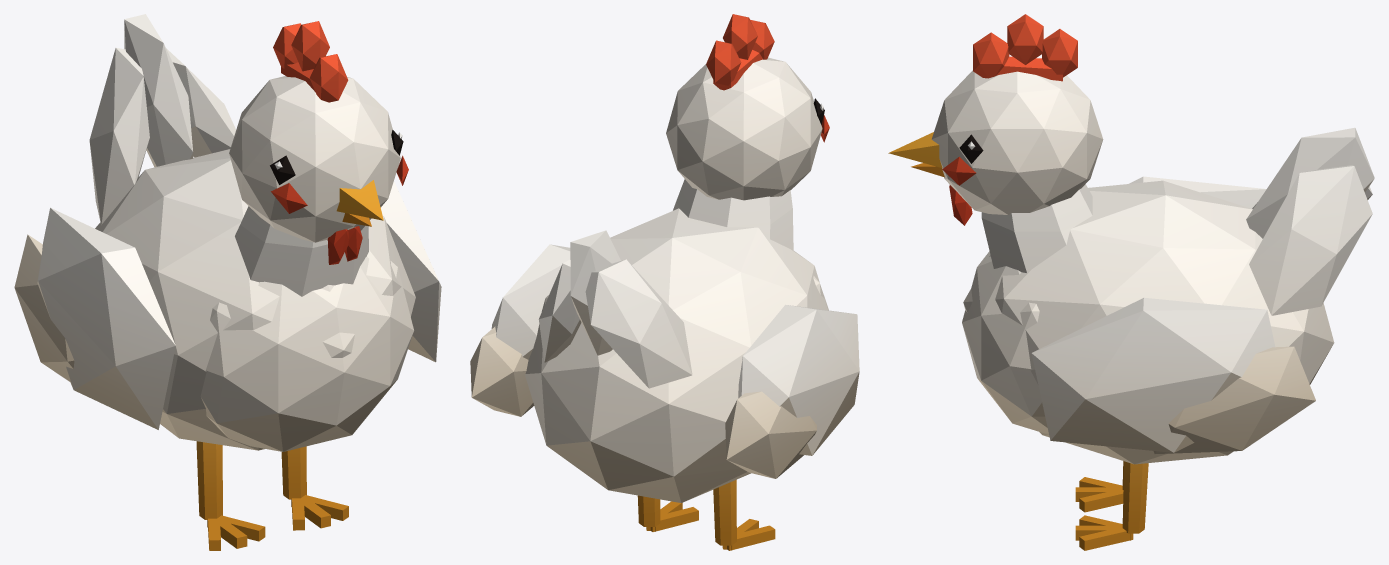
File: poule.glb
The picture shows the model from 3 angles, left to right: view 1: azimuth 30°, elevation 25°; view 2: azimuth 150°, elevation 25°; view 3: azimuth 270°, elevation 25°; orthographic projection. The views are drawn at different scales.
Parts seen in each view (by area): view 1: corps, tete, aile_d, pattes, aile_g; view 2: corps, tete, aile_d, aile_g, pattes; view 3: corps, aile_g, tete, pattes, aile_d.
Part boxes in pixels (bbox=[...]): corps: bbox=[89, 14, 415, 451]; tete: bbox=[229, 21, 408, 264]; aile_d: bbox=[14, 207, 175, 429]; pattes: bbox=[196, 441, 348, 550]; aile_g: bbox=[381, 182, 441, 362]; corps: bbox=[525, 179, 828, 502]; tete: bbox=[666, 14, 829, 200]; aile_d: bbox=[725, 304, 859, 478]; aile_g: bbox=[470, 244, 570, 416]; pattes: bbox=[637, 479, 775, 550]; corps: bbox=[962, 127, 1374, 464]; aile_g: bbox=[1031, 297, 1315, 453]; tete: bbox=[888, 14, 1103, 225]; pattes: bbox=[1075, 461, 1148, 550]; aile_d: bbox=[1129, 176, 1266, 208].
Bounding box in the file's own units: 0.351 × 0.5473 × 0.4817.
Materials: 1 (1 with a texture image).
